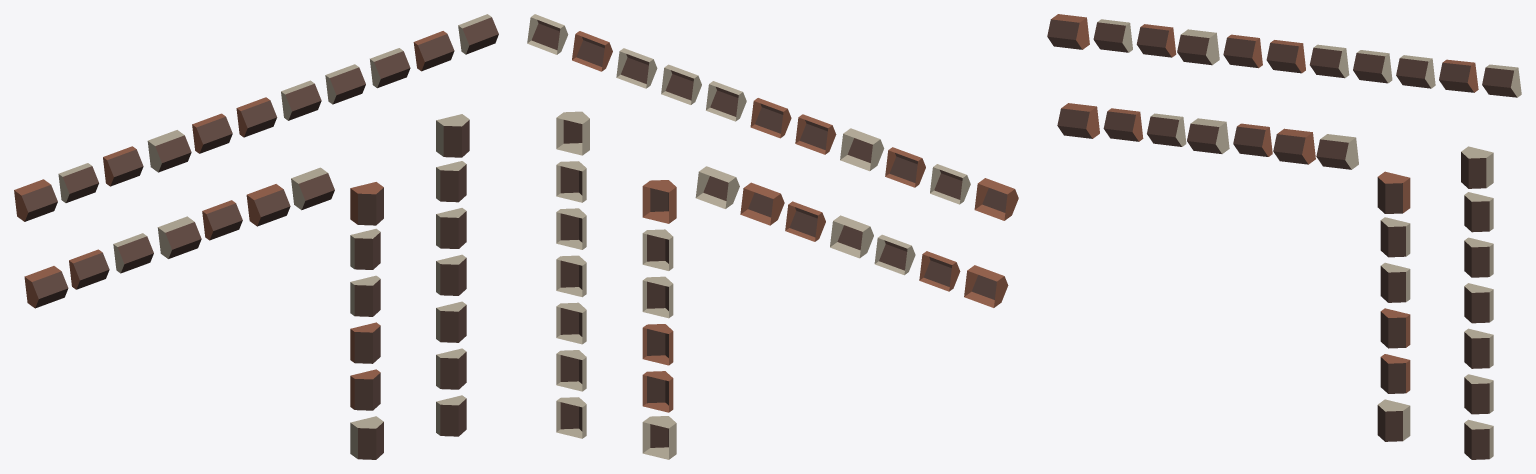
The model's file is island_bldg_22_03.obj.
3 views of the same model, side by side, from view 1: azimuth 30°, elevation 25°; view 2: azimuth 150°, elevation 25°; view 3: azimuth 330°, elevation 25° (orthographic). The views are drawn at different scales.
Visible parts, largest first — view 1: island_bldg_22_03; view 2: island_bldg_22_03; view 3: island_bldg_22_03.
Boxes of the visible parts, x1=… form: island_bldg_22_03: x1=14, y1=14, x2=498, y2=459; island_bldg_22_03: x1=527, y1=14, x2=1018, y2=459; island_bldg_22_03: x1=1047, y1=14, x2=1521, y2=459.
Size of the model in its own units: 256 by 208 by 11.9.
